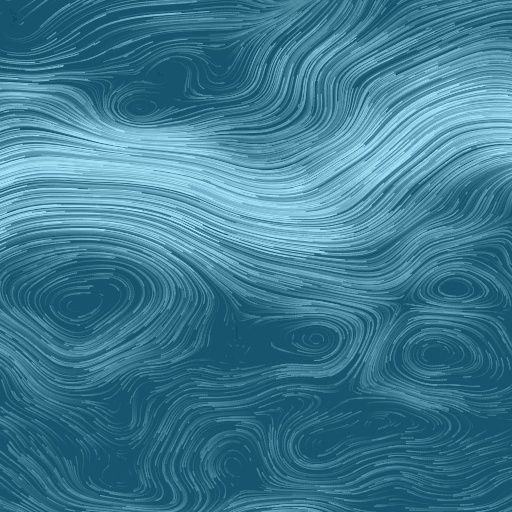eddy: (5, 257, 159, 356), (288, 398, 434, 472), (402, 326, 471, 381), (273, 319, 346, 362), (419, 267, 492, 308), (117, 96, 163, 121)
